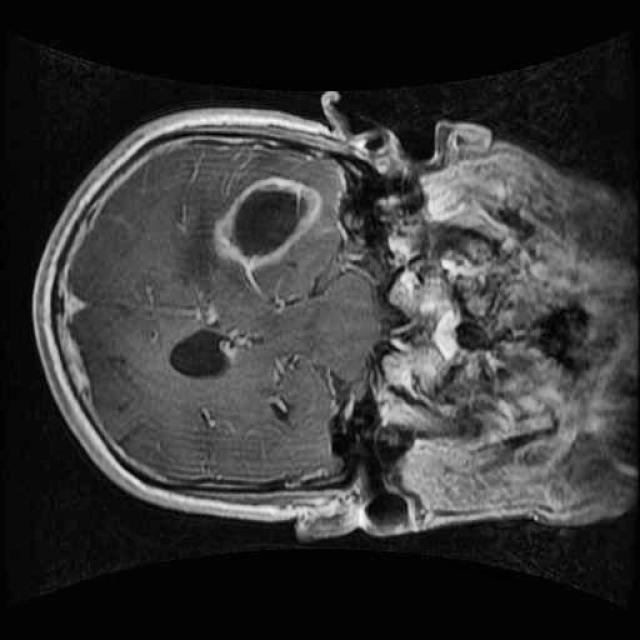Non-Tumor: (205, 162, 334, 280)
